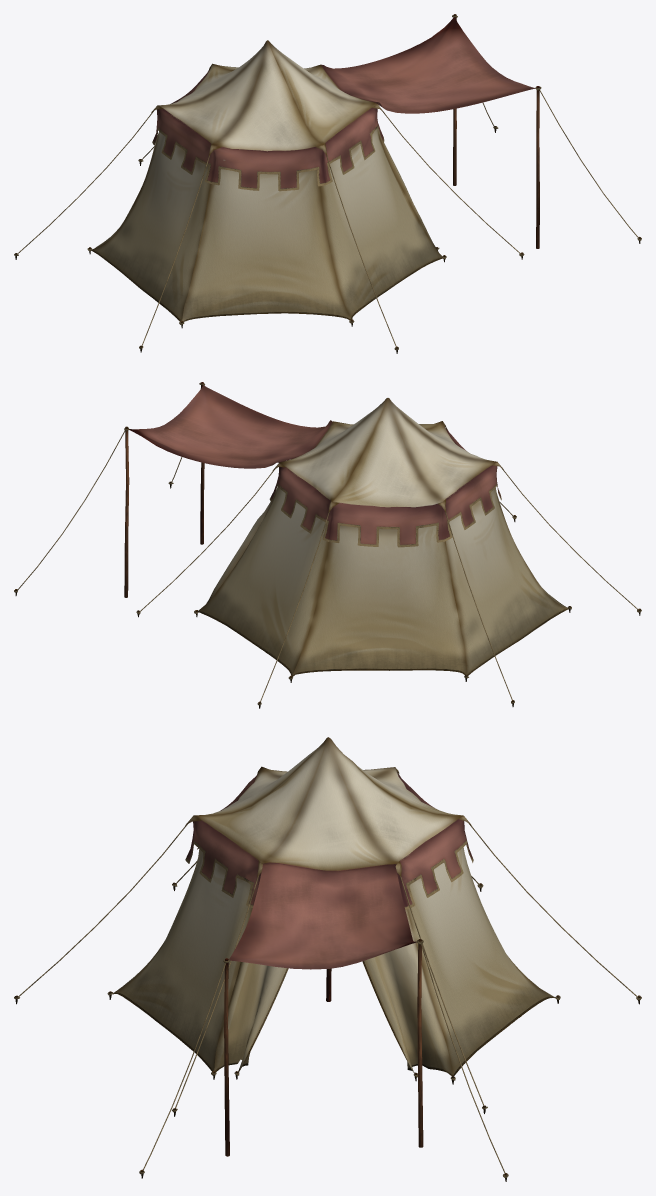
File: Tent.fbx
The picture shows the model from 3 angles, top to bottom: view 1: azimuth 30°, elevation 25°; view 2: azimuth 150°, elevation 25°; view 3: azimuth 270°, elevation 25°; orthographic projection. The views are drawn at different scales.
Visible parts, largest first — view 1: Tent; view 2: Tent; view 3: Tent.
Part boxes in pixels (x1=…): Tent: x1=14, y1=14, x2=641, y2=353; Tent: x1=14, y1=382, x2=641, y2=708; Tent: x1=14, y1=737, x2=641, y2=1181.
Size of the model in its own units: 5.89 by 2.65 by 5.33.
Materials: 1 (1 with a texture image).
